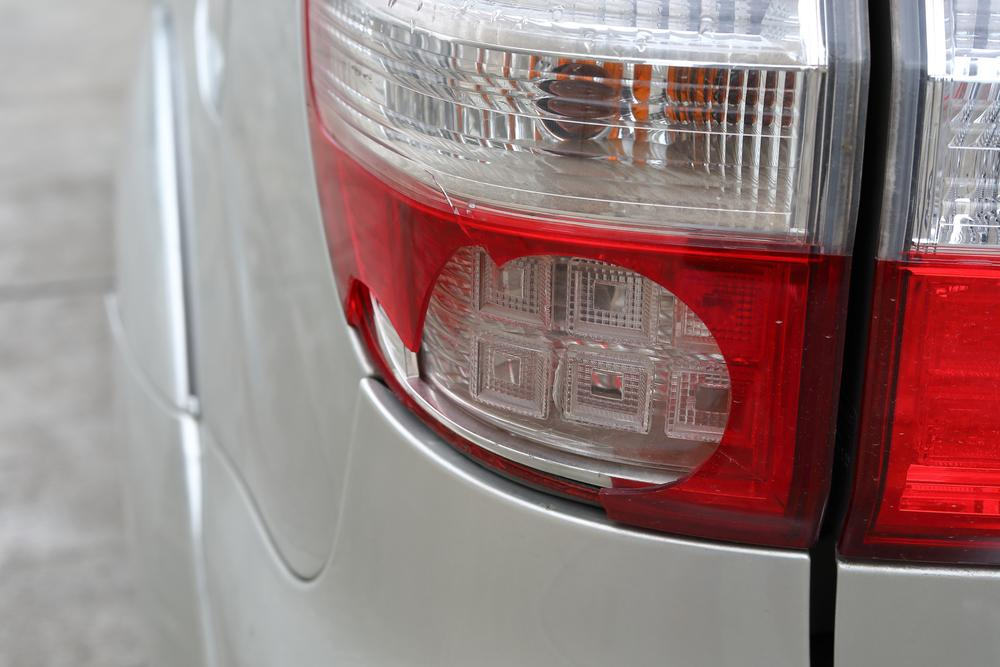lamp broken: (302, 0, 870, 554)
